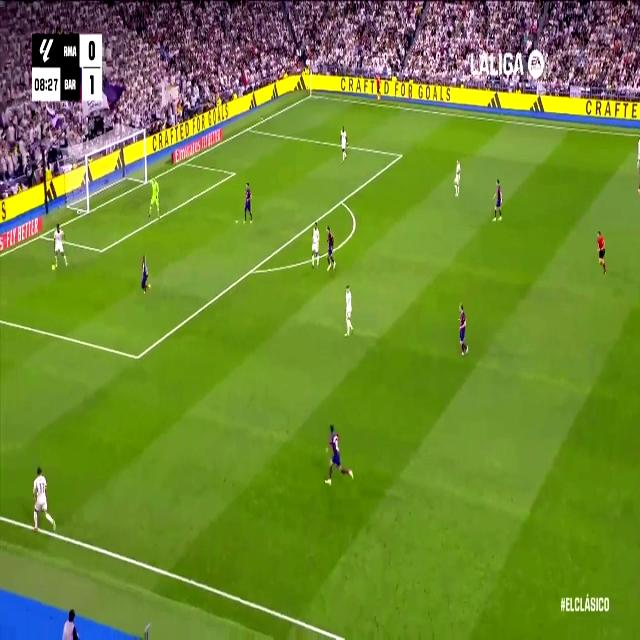bigarea_bottom_inner: (132, 345, 142, 369)
bigarea_top_inner: (397, 148, 403, 162)
bigarea_top_outter: (244, 120, 252, 134)
bottom_arc_area_intersection: (247, 260, 256, 280)
smallarea_bottom_inner: (97, 241, 105, 259)
smallarea_bottom_outter: (38, 228, 46, 242)
smallarea_top_inner: (230, 166, 237, 180)
top_arc_area_intersection: (338, 193, 345, 208)
